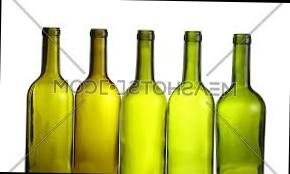glass: (214, 24, 276, 174), (166, 19, 219, 174)
